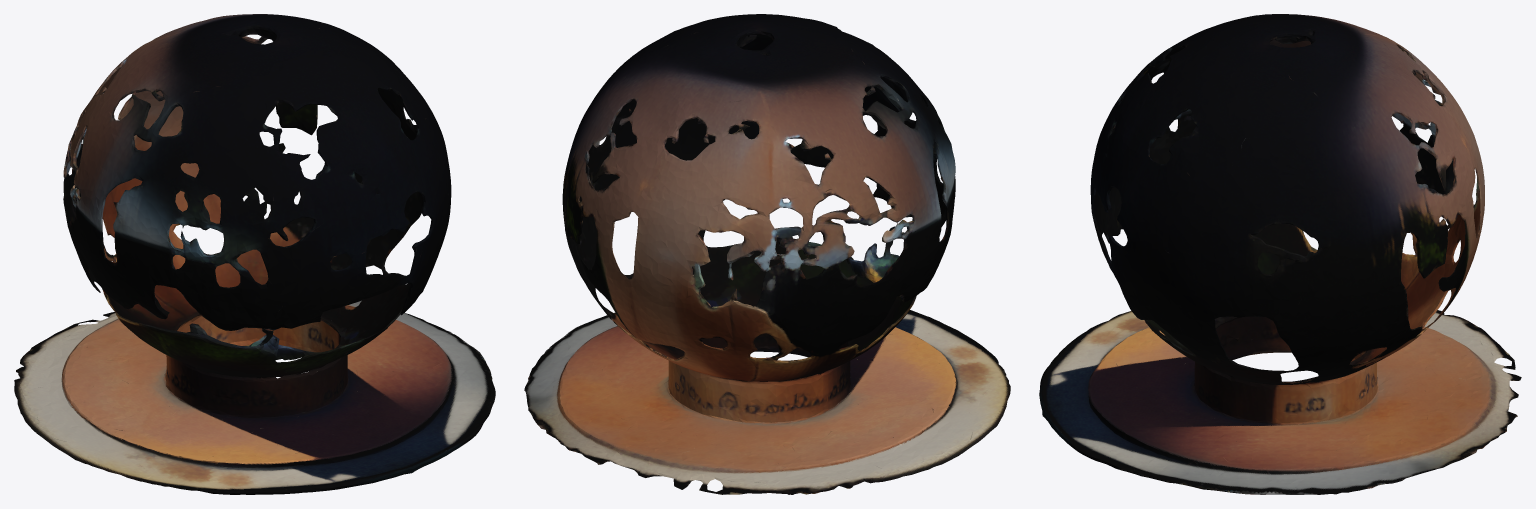
Rendered from EntranceFirePlace.glb.
The picture shows the model from 3 angles, left to right: view 1: azimuth 30°, elevation 25°; view 2: azimuth 150°, elevation 25°; view 3: azimuth 270°, elevation 25°; orthographic projection.
Parts seen in each view (by area): view 1: world; view 2: world; view 3: world.
Part boxes in pixels (box(x1,y1,x2,y2)): world: box(14, 14, 495, 494); world: box(524, 14, 1010, 494); world: box(1039, 14, 1521, 494).
Size of the model in its own units: 0.9971 by 0.8229 by 0.9936.
1 material, 1 textured.
